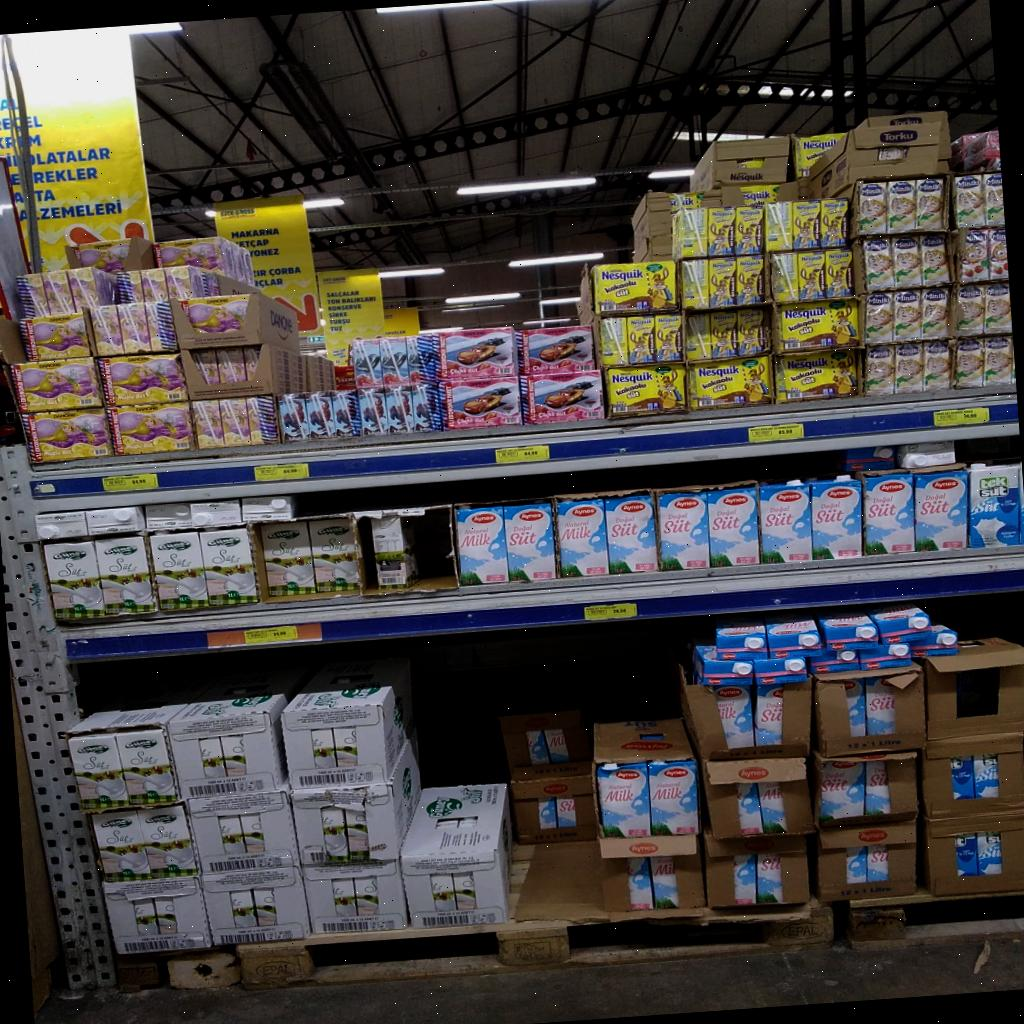price_tag: (933, 406, 990, 427), (748, 423, 804, 443), (244, 625, 298, 645), (102, 473, 158, 492), (495, 445, 550, 464), (254, 462, 308, 481), (584, 603, 638, 620)
product: (171, 293, 295, 349), (849, 176, 950, 238), (852, 234, 953, 293), (859, 287, 955, 344), (85, 301, 177, 358), (592, 313, 685, 368), (11, 356, 102, 412), (43, 541, 108, 619), (419, 327, 516, 379), (864, 341, 953, 397), (703, 481, 760, 568), (672, 206, 763, 260), (17, 268, 117, 317), (190, 395, 282, 448), (95, 535, 157, 613), (22, 408, 112, 461), (97, 353, 188, 405), (149, 531, 208, 611), (858, 472, 914, 556), (772, 298, 859, 352), (351, 335, 439, 388), (519, 370, 604, 424), (680, 256, 765, 310), (200, 527, 258, 606), (590, 261, 678, 313), (687, 355, 773, 408), (769, 249, 853, 303), (810, 475, 863, 560), (763, 199, 849, 251), (968, 463, 1020, 548), (759, 480, 812, 563), (108, 404, 194, 455), (914, 470, 968, 551), (684, 309, 768, 361), (657, 489, 710, 571), (604, 364, 687, 416), (776, 350, 859, 402), (358, 384, 442, 435), (456, 504, 508, 586), (605, 493, 658, 573), (439, 378, 522, 429), (504, 501, 556, 582), (261, 522, 316, 596), (113, 265, 217, 304), (279, 391, 359, 441), (558, 499, 609, 577), (310, 517, 360, 593), (520, 326, 594, 375), (952, 336, 1015, 389), (21, 312, 90, 360), (371, 517, 418, 587), (953, 282, 1012, 337), (954, 227, 1008, 283), (952, 172, 1005, 228), (191, 348, 260, 385)
